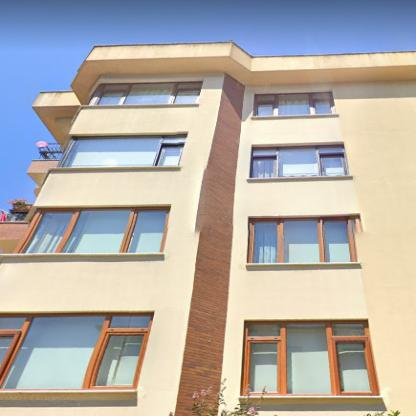window: (0, 314, 152, 388), (246, 321, 376, 393), (15, 208, 168, 253), (249, 218, 352, 263), (62, 133, 186, 167), (251, 144, 347, 178), (96, 82, 201, 105), (255, 92, 333, 116)
